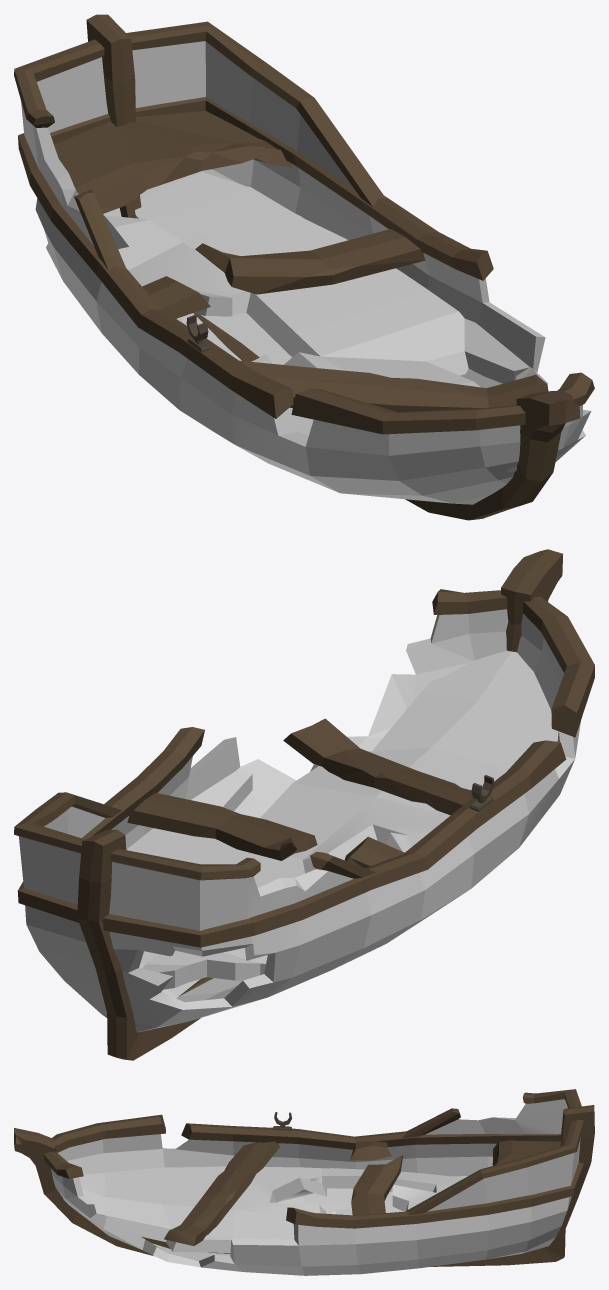
The model's file is SM_Prop_Wreck_Rowboat_01.fbx.
3 renders of one model, top to bottom at view 1: azimuth 30°, elevation 25°; view 2: azimuth 150°, elevation 25°; view 3: azimuth 270°, elevation 25°, orthographic. The views are drawn at different scales.
Parts seen in each view (by area): view 1: SM_Prop_Wreck_Rowboat_01; view 2: SM_Prop_Wreck_Rowboat_01; view 3: SM_Prop_Wreck_Rowboat_01.
Boxes of the visible parts, x1,y1,x2,y2 form: SM_Prop_Wreck_Rowboat_01: (14,14,594,520); SM_Prop_Wreck_Rowboat_01: (14,549,594,1060); SM_Prop_Wreck_Rowboat_01: (14,1089,594,1275).
Bounding box in the file's own units: 191 × 148 × 491.
